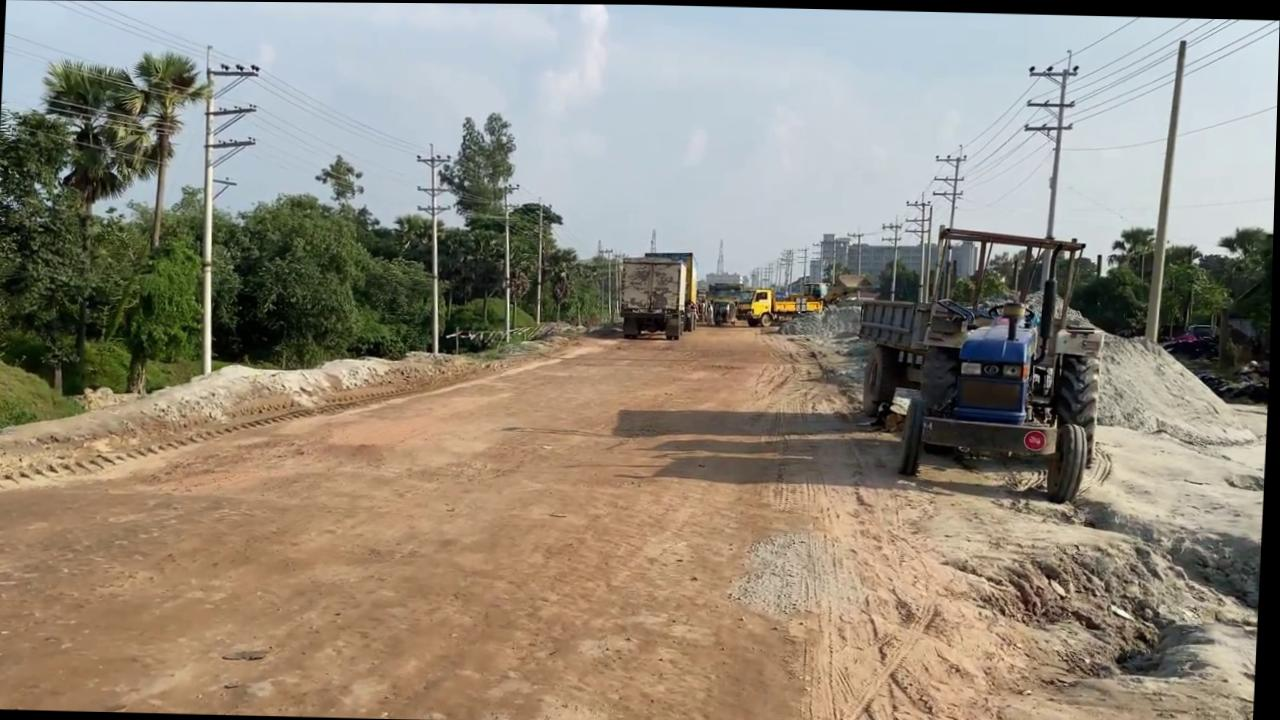Pole: (1151, 44, 1192, 344), (192, 47, 226, 375)
Traffic-sign: (13, 57, 158, 391), (95, 49, 204, 391)
Tree: (853, 224, 1089, 484), (605, 248, 688, 338), (704, 285, 802, 326), (770, 270, 863, 307), (608, 284, 672, 337), (767, 274, 816, 308), (811, 271, 862, 303), (790, 279, 816, 307)
